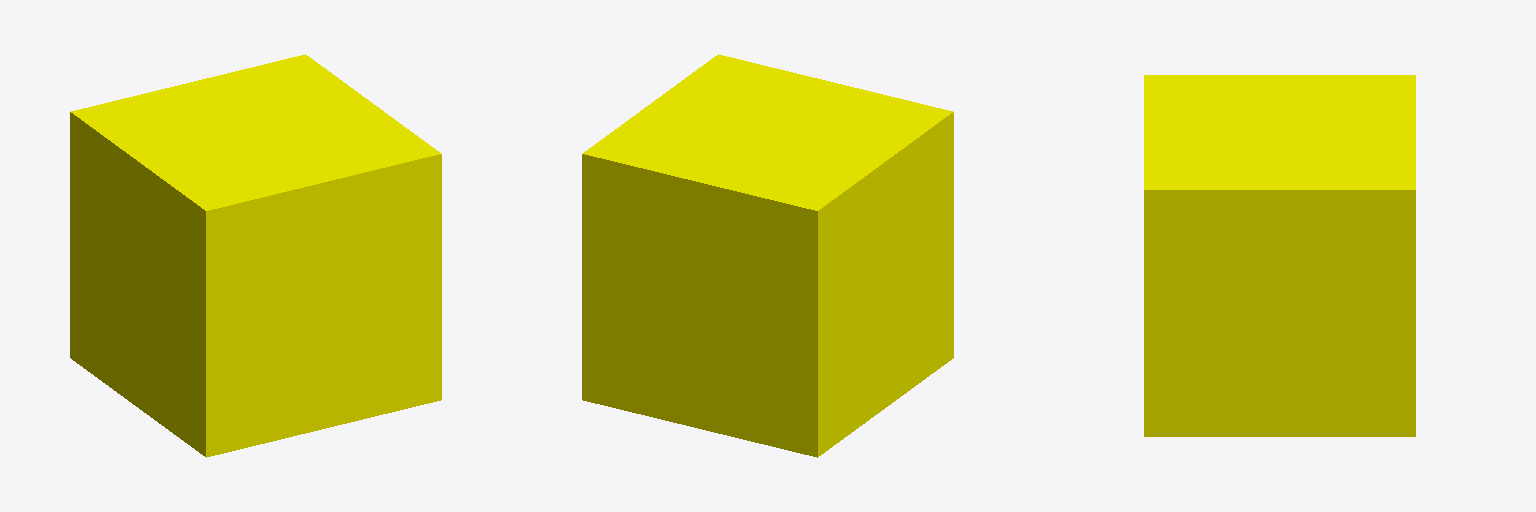
The picture shows the model from 3 angles: view 1: azimuth 30°, elevation 25°; view 2: azimuth 150°, elevation 25°; view 3: azimuth 270°, elevation 25°; orthographic projection.
Visible parts, largest first — view 1: pCube1; view 2: pCube1; view 3: pCube1.
Part boxes in pixels (x1,y1,x2,y2): pCube1: (70, 54, 441, 457); pCube1: (582, 54, 953, 457); pCube1: (1144, 75, 1415, 436).
Bounding box in the file's own units: 1 × 1 × 1.
1 materials, 1 textured.